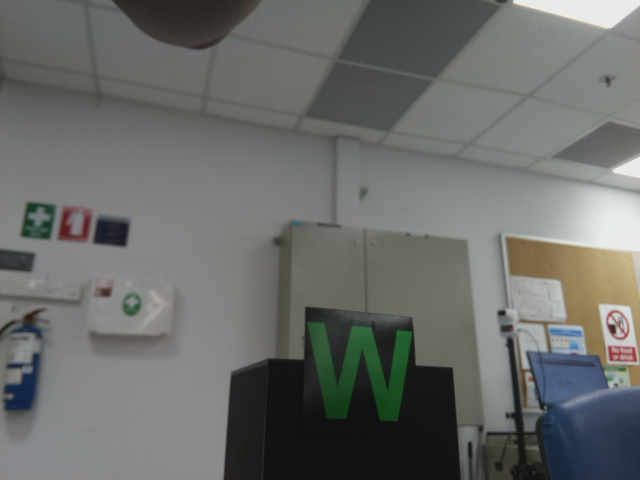w: (306, 315, 413, 427)
